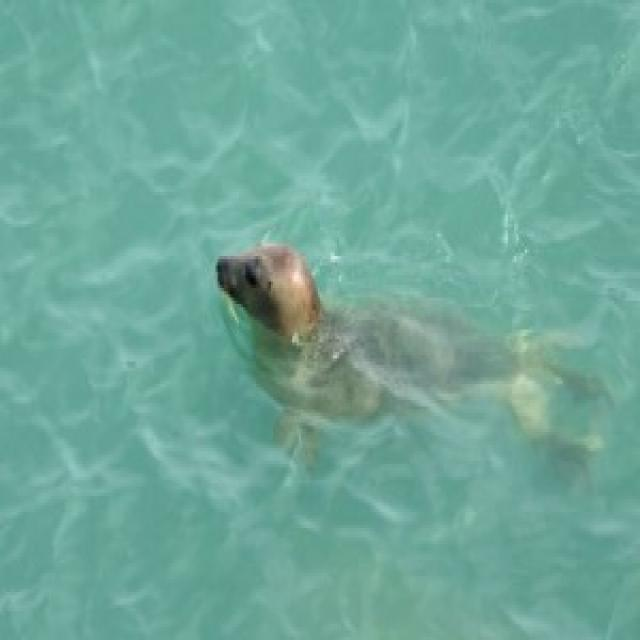Seal: (204, 227, 526, 450)
